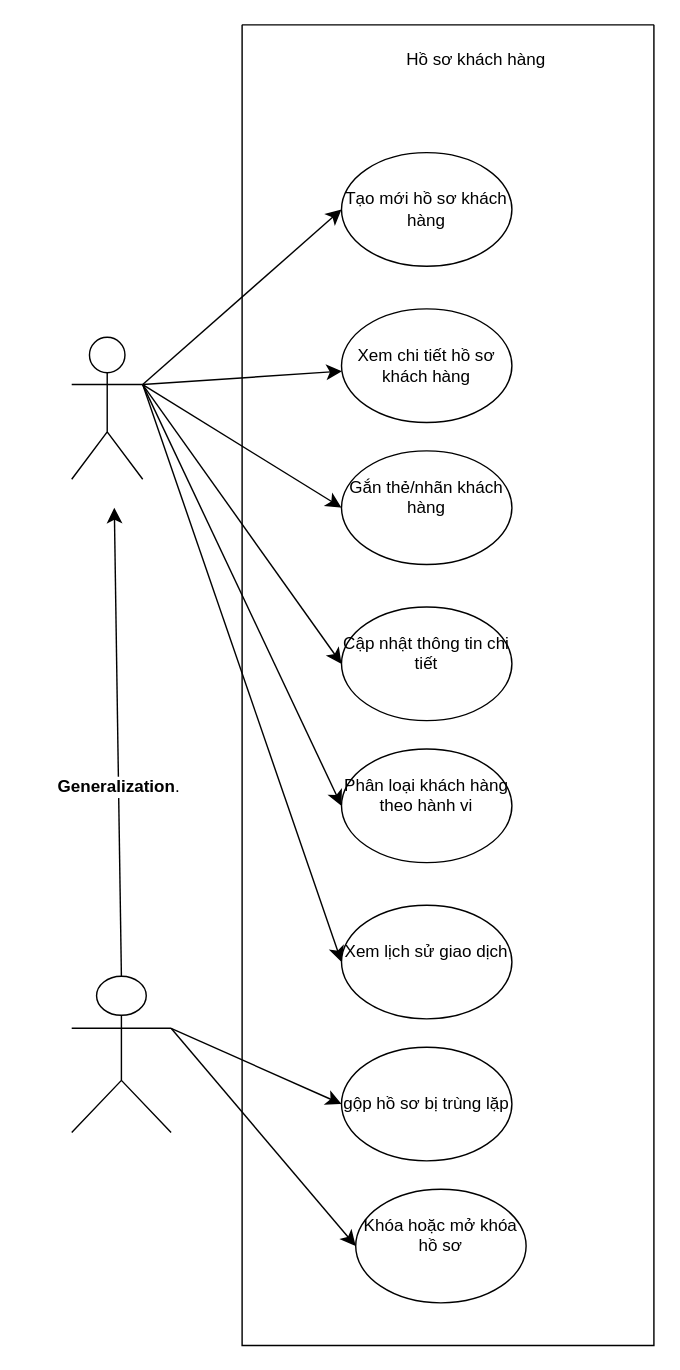
The diagram is 680 pixels wide and 1370 high, and some of its shapes have lost their labels. Each missing label, with the centre of its shape:
"Nhân viên kinh doanh" goes at pixel 106 407.
"Quản trị viên" goes at pixel 120 1053.
